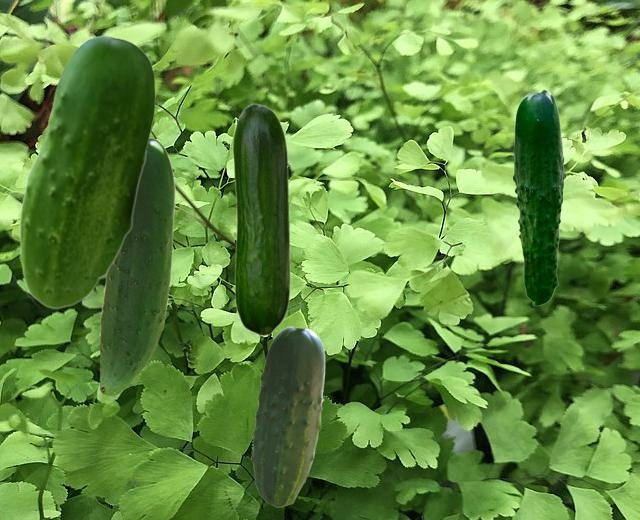cucumber: (19, 35, 154, 308), (99, 137, 174, 395), (232, 103, 290, 335), (251, 326, 324, 506), (512, 89, 565, 305)
